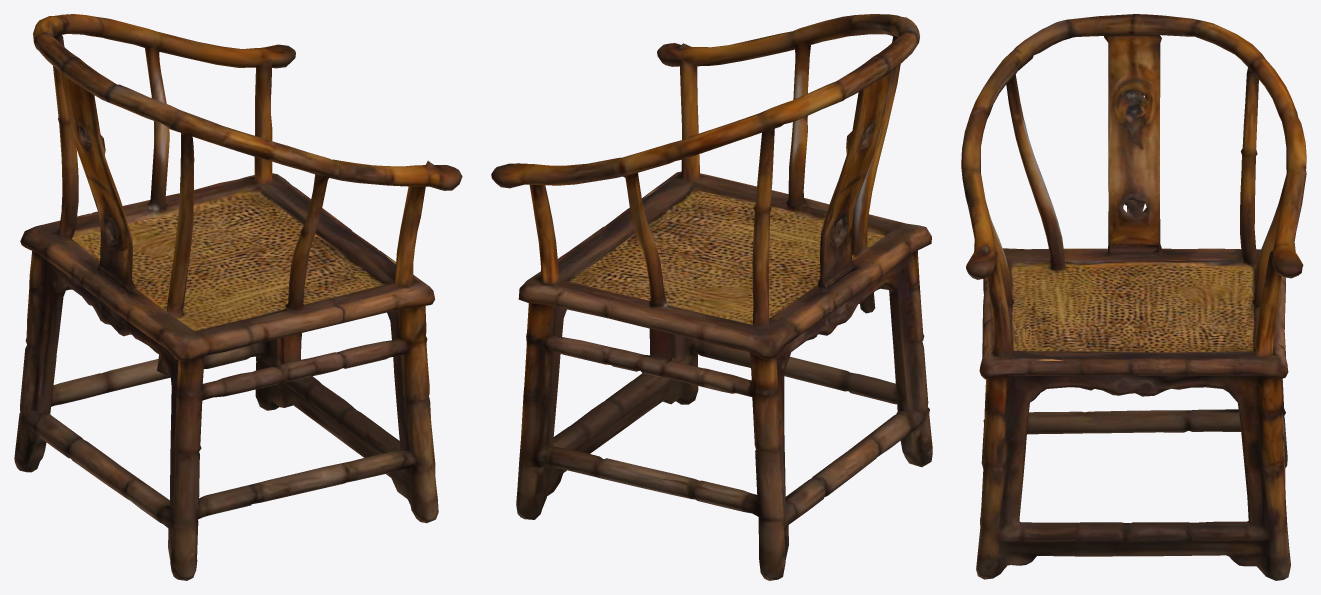
Rendered from quanyi.glb.
3 renders of one model, left to right at view 1: azimuth 30°, elevation 25°; view 2: azimuth 150°, elevation 25°; view 3: azimuth 270°, elevation 25°, orthographic. The views are drawn at different scales.
Visible parts, largest first — view 1: tripo_node_ac3f3e78-bac5-4621-a894-aca74e070ff2; view 2: tripo_node_ac3f3e78-bac5-4621-a894-aca74e070ff2; view 3: tripo_node_ac3f3e78-bac5-4621-a894-aca74e070ff2.
Boxes of the visible parts, x1,y1,x2,y2 form: tripo_node_ac3f3e78-bac5-4621-a894-aca74e070ff2: [14, 14, 462, 580]; tripo_node_ac3f3e78-bac5-4621-a894-aca74e070ff2: [491, 14, 932, 580]; tripo_node_ac3f3e78-bac5-4621-a894-aca74e070ff2: [961, 14, 1306, 580].
Bounding box in the file's own units: 0.6923 × 1 × 0.708.
Materials: 1 (1 with a texture image).
